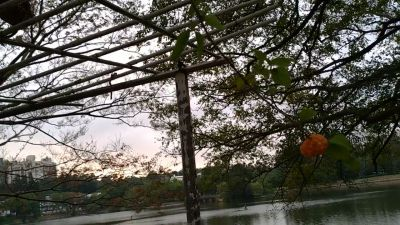eggs: (298, 132, 329, 160)
